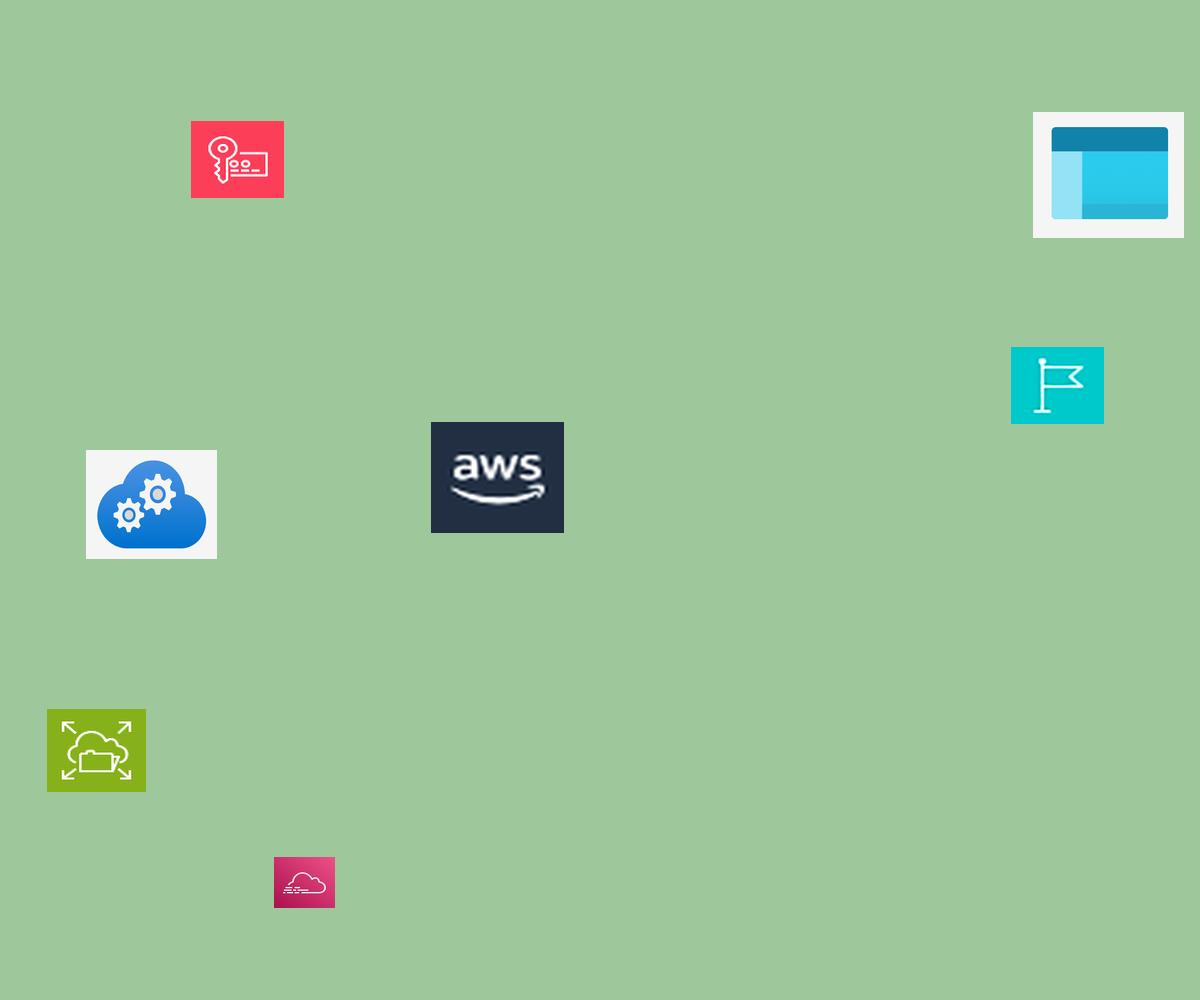AWS-Cloud-logo: (431, 422, 564, 533)
AWS-CloudTrail: (274, 857, 335, 908)
AWS-EFS: (47, 709, 146, 792)
AWS-Key-Management-Service: (191, 121, 284, 198)
AWS-Region: (1011, 347, 1104, 424)
Azure_cloud_services: (86, 450, 217, 559)
Azure_management-portal: (1033, 112, 1184, 238)
